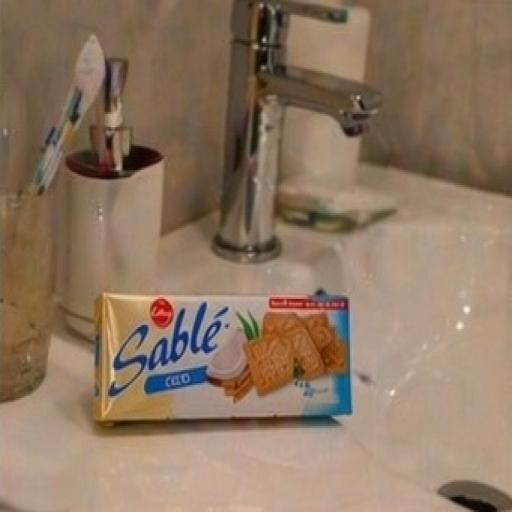sabl: (40, 218, 412, 481)
